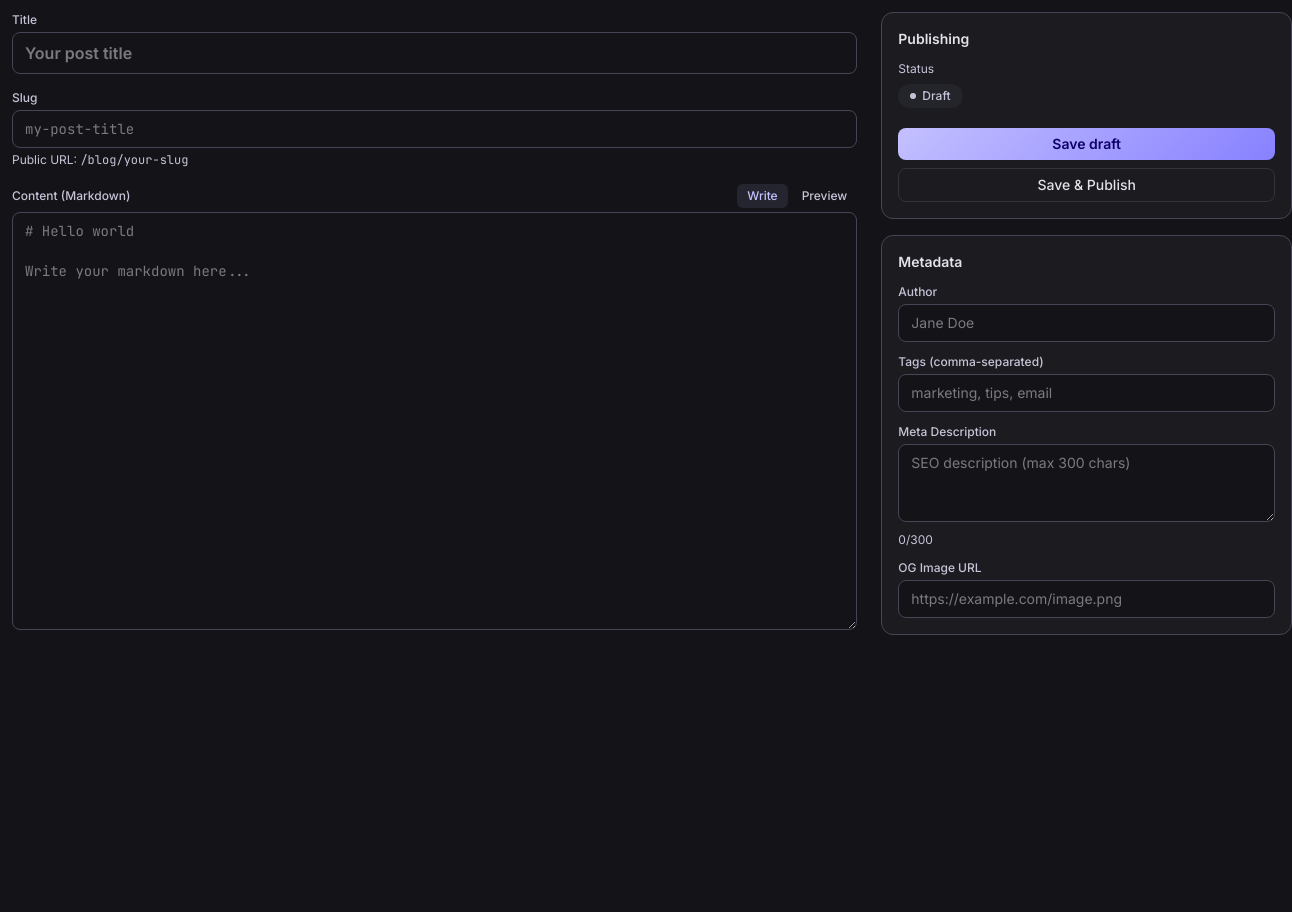
Test: BlogPostEditor › shows validation error when title is empty
Click the button "Save draft": (1087, 144) x1=898 y1=128 x2=1275 y2=160
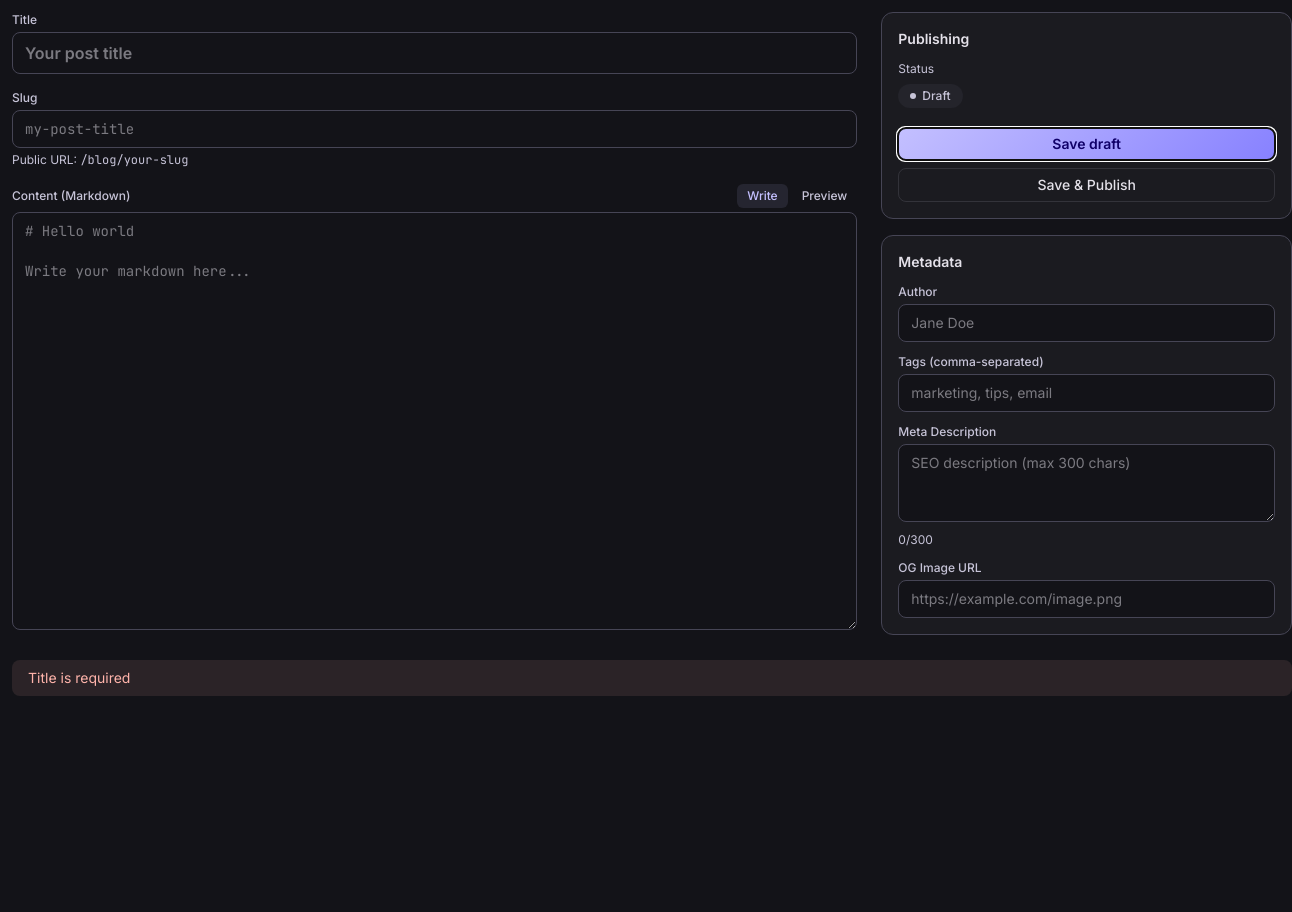
Result: the text "Title is required" is shown at x1=12 y1=660 x2=1291 y2=696
